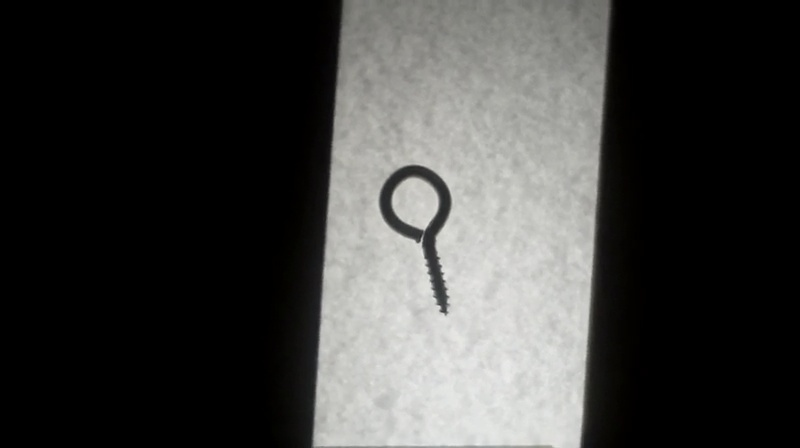O001: (374, 163, 456, 318)
